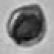correct: (4, 2, 49, 46)
